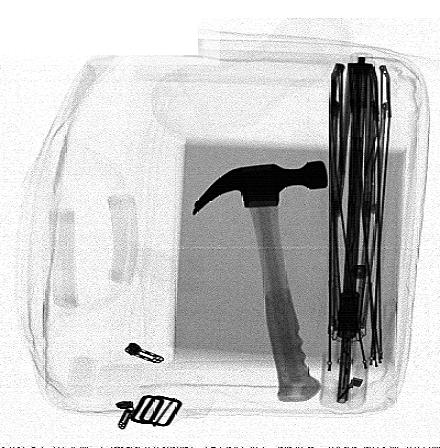Hammer: (191, 161, 329, 403)
